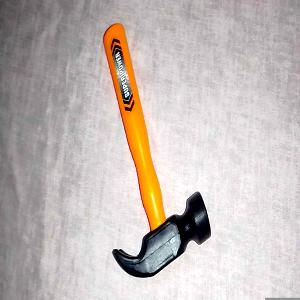parafuso: (73, 39, 171, 256)
